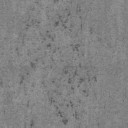oxide scale of temperature system: (40, 30, 98, 125), (54, 4, 94, 34), (19, 58, 38, 85), (30, 118, 34, 128), (0, 75, 3, 88), (25, 23, 30, 30), (26, 100, 30, 108), (53, 0, 60, 4), (36, 21, 41, 24), (16, 48, 19, 51)
